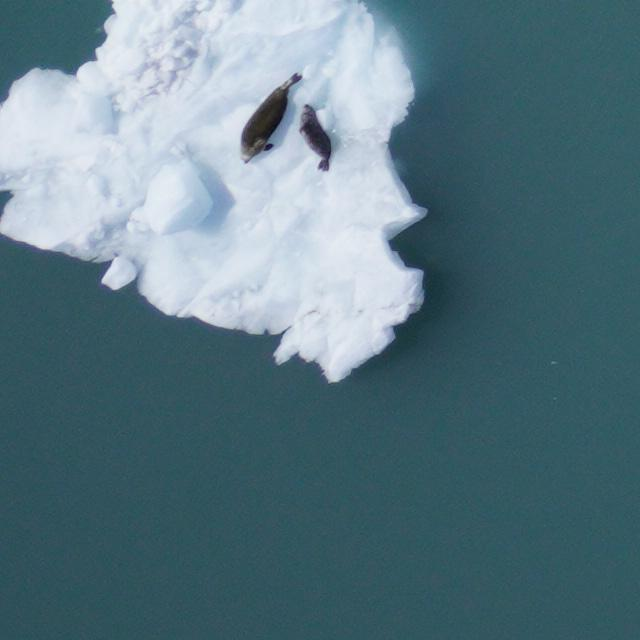seal: (234, 62, 303, 169), (287, 103, 344, 176)
